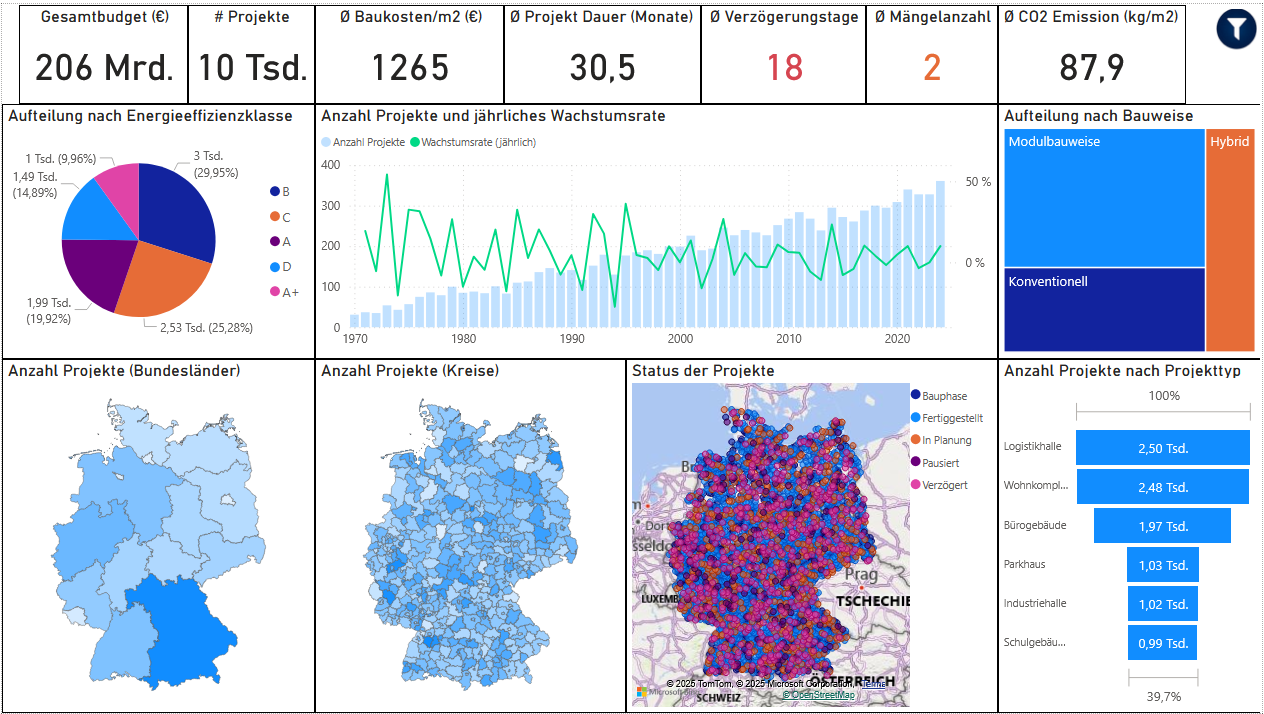

Layout of this report page (visuals, bound fields, positions):
{"tool":"powerbi","page":{"name":"Page 1","canvas":[1280,720],"ordinal":0},"visuals":[{"type":"shapeMap","title":"Anzahl Projekte (Kreise)","fields":{"Category":["Sheet1.kreis"],"Value":["CountNonNull(Sheet1.Projekt_ID)"]},"box":[317,360,317,360],"z":0},{"type":"shapeMap","title":"Anzahl Projekte (Bundesländer)","fields":{"Value":["CountNonNull(Sheet1.Projekt_ID)"],"Category":["Projects.Region_corrected"]},"box":[0,360,317,360],"z":1000},{"type":"map","title":"Status der Projekte","fields":{"Y":["Sheet1.latitude"],"X":["Sheet1.longitude"],"Series":["Sheet1.Status"]},"box":[633.8,360,377.5,360],"z":2000},{"type":"funnel","title":"Anzahl Projekte nach Projekttyp","fields":{"Category":["Projects.Projekttyp"],"Y":["CountNonNull(Sheet1.Projekt_ID)"]},"box":[1011,360,260,360],"z":3000},{"type":"lineStackedColumnComboChart","title":"Anzahl Projekte und jährliches Wachstumsrate","fields":{"Y":["CountNonNull(Projects.Projekt_ID)"],"Y2":["Projects.Wachstumsrate_YoY"],"Category":["Date.Year"]},"box":[317,102,694,258],"z":4000},{"type":"treemap","title":"Aufteilung nach Bauweise","fields":{"Group":["Sheet1.Bauweise"],"Values":["CountNonNull(Sheet1.Projekt_ID)"]},"box":[1011,102,260,258],"z":5000},{"type":"card","title":"Ø Mängelanzahl","fields":{"Values":["Avg(Sheet1.Mängelanzahl)"]},"box":[877,1,134,101],"z":6000},{"type":"card","title":"Gesamtbudget (€)","fields":{"Values":["Sum(Sheet1.Budget_org)"]},"box":[17.7,0.8,171.5,101.5],"z":7000},{"type":"card","title":"Ø Verzögerungstage","fields":{"Values":["Avg(Sheet1.Verzögerungstage)"]},"box":[710,1,167,101],"z":8000},{"type":"card","title":"Ø Baukosten pro m2 (€)","fields":{"Values":["Avg(Sheet1.Baukosten_EUR_pro_m2)"]},"box":[317,1,193,101],"z":9000},{"type":"card","title":"Ø Projekt Dauer (Monate)","fields":{"Values":["Avg(Sheet1.Projekt_Dauer)"]},"box":[510,1,200,101],"z":10000},{"type":"pieChart","title":"Aufteilung nach Energieeffizienzklasse","fields":{"Category":["Sheet1.Energieeffizienzklasse"],"Y":["CountNonNull(Sheet1.Projekt_ID)"]},"box":[0,102,317,258],"z":11000},{"type":"card","title":"Ø CO2 Emission (kg/m2)","fields":{"Values":["Avg(Sheet1.CO2_Emission_kg_m2)"]},"box":[1011,1,201,101],"z":12000},{"type":"actionButton","box":[1221,1,50,52],"z":13000},{"type":"card","title":"# Projekte","fields":{"Values":["Count(Projects.Projekt_ID)"]},"box":[189,1,128,101],"z":15000}]}

Visuals, with their boxes in screenshot pixels (x1, y1, x2, y2), scaled from the page's 1280x720 canvas onto the 1264x714 screenshot:
"Anzahl Projekte (Kreise)" shapeMap: l=313, t=357, r=626, b=713
"Anzahl Projekte (Bundesländer)" shapeMap: l=0, t=357, r=313, b=713
"Status der Projekte" map: l=626, t=357, r=999, b=713
"Anzahl Projekte nach Projekttyp" funnel: l=998, t=357, r=1255, b=713
"Anzahl Projekte und jährliches Wachstumsrate" lineStackedColumnComboChart: l=313, t=101, r=998, b=357
"Aufteilung nach Bauweise" treemap: l=998, t=101, r=1255, b=357
"Ø Mängelanzahl" card: l=866, t=1, r=998, b=101
"Gesamtbudget (€)" card: l=17, t=1, r=187, b=101
"Ø Verzögerungstage" card: l=701, t=1, r=866, b=101
"Ø Baukosten pro m2 (€)" card: l=313, t=1, r=504, b=101
"Ø Projekt Dauer (Monate)" card: l=504, t=1, r=701, b=101
"Aufteilung nach Energieeffizienzklasse" pieChart: l=0, t=101, r=313, b=357
"Ø CO2 Emission (kg/m2)" card: l=998, t=1, r=1197, b=101
actionButton: l=1206, t=1, r=1255, b=53
"# Projekte" card: l=187, t=1, r=313, b=101
